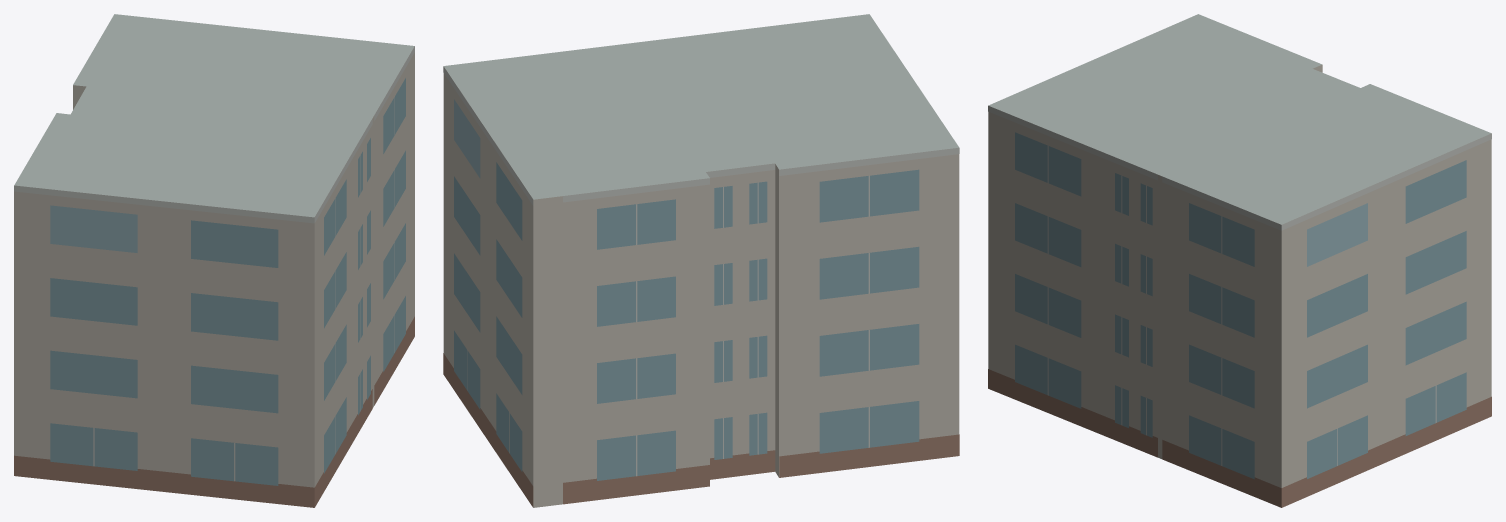
Rendered from survey-upis-32749487.glb.
The picture shows the model from 3 angles, left to right: view 1: azimuth 30°, elevation 25°; view 2: azimuth 150°, elevation 25°; view 3: azimuth 270°, elevation 25°; orthographic projection. The views are drawn at different scales.
Parts seen in each view (by area): view 1: survey-upis-32749487.tmp; view 2: survey-upis-32749487.tmp; view 3: survey-upis-32749487.tmp.
Part boxes in pixels (box(x1,y1,x2,y2)): survey-upis-32749487.tmp: box(14, 14, 414, 507); survey-upis-32749487.tmp: box(443, 14, 959, 507); survey-upis-32749487.tmp: box(988, 14, 1491, 507).
Bounding box in the file's own units: 18.7 × 11.7 × 18.88.
